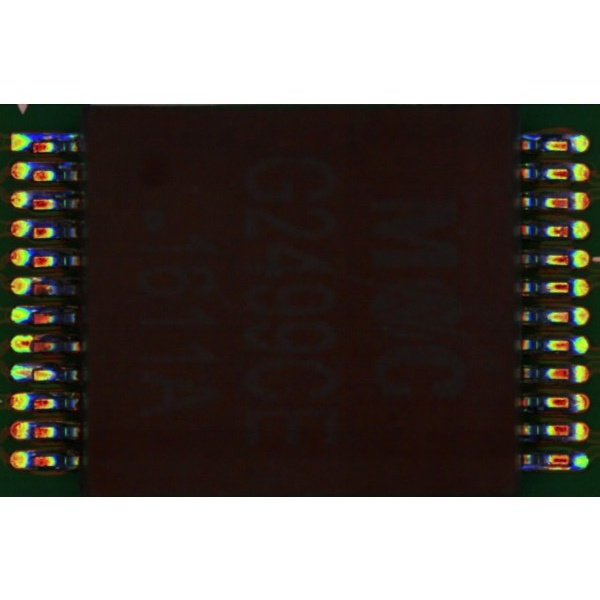Bad_podu: (25, 369, 42, 377), (23, 339, 37, 348)
Bad_qiaojiao: (523, 464, 571, 470), (33, 133, 76, 139)
